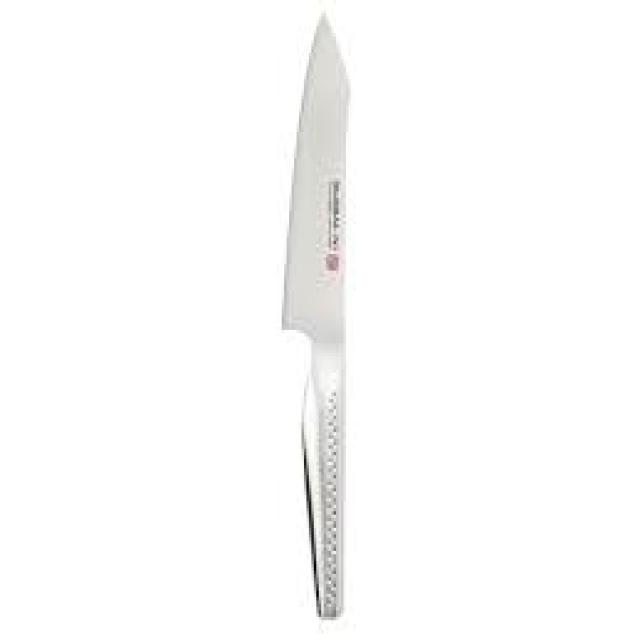knife: (273, 10, 357, 625)
